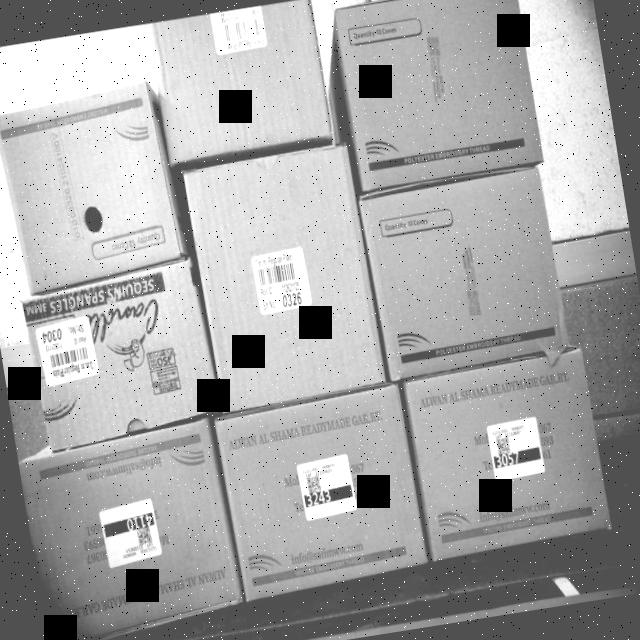box: (183, 148, 388, 416), (213, 387, 432, 610), (22, 426, 244, 640), (359, 174, 577, 386), (330, 0, 545, 201), (403, 360, 610, 556), (0, 82, 189, 290), (20, 266, 226, 453), (154, 0, 330, 171)
